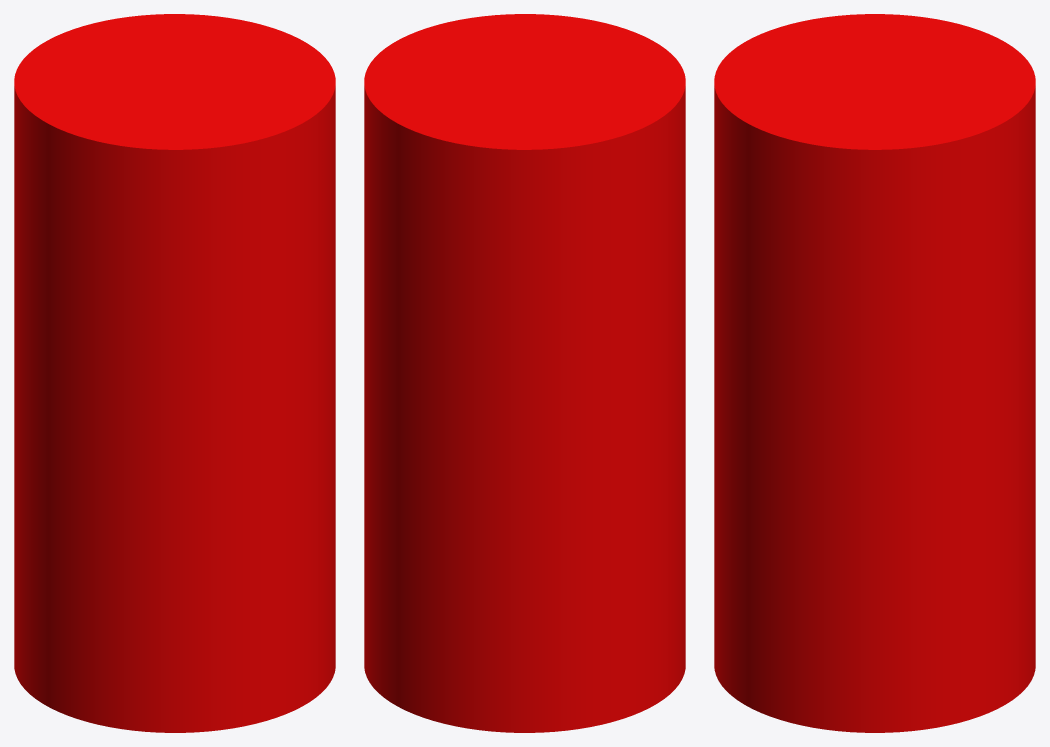
File: cylinder_uvs.fbx
The picture shows the model from 3 angles, left to right: view 1: azimuth 30°, elevation 25°; view 2: azimuth 150°, elevation 25°; view 3: azimuth 270°, elevation 25°; orthographic projection.
Parts seen in each view (by area): view 1: root; view 2: root; view 3: root.
Part boxes in pixels (<box>): root: <box>14,14,335,732</box>; root: <box>364,14,685,732</box>; root: <box>714,14,1035,732</box>.
Size of the model in its own units: 0.1 by 0.2 by 0.1.
